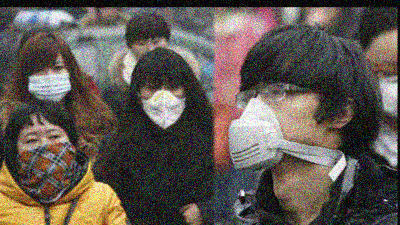with_mask: (227, 70, 341, 178), (15, 126, 80, 198), (137, 77, 188, 131), (27, 59, 71, 101), (372, 57, 397, 123)
without_mask: (130, 36, 170, 63)
